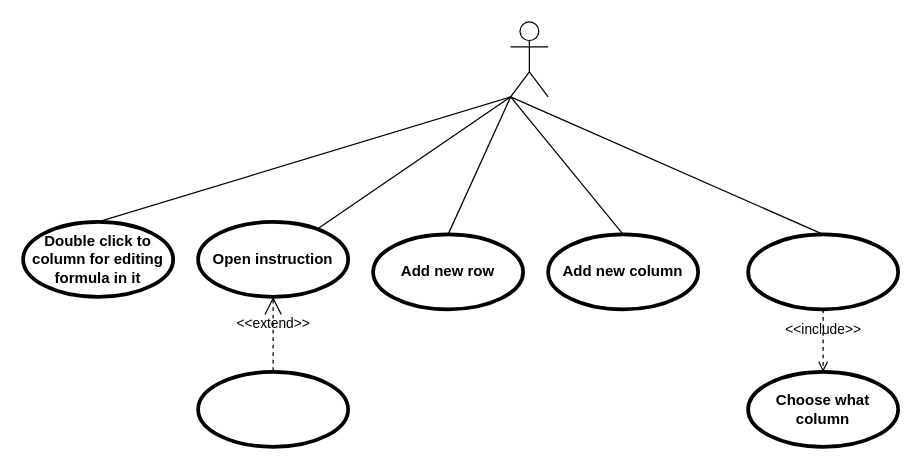
The diagram is 921 pixels wide and 470 high, and some of its shapes have lost their labels. Here are the shapes that lost their labels. From the top down, the centre of each, then its label:
At (x=528, y=59): "User".
At (x=822, y=271): "Hide column/unhide column".
At (x=272, y=408): "Close instruction".
